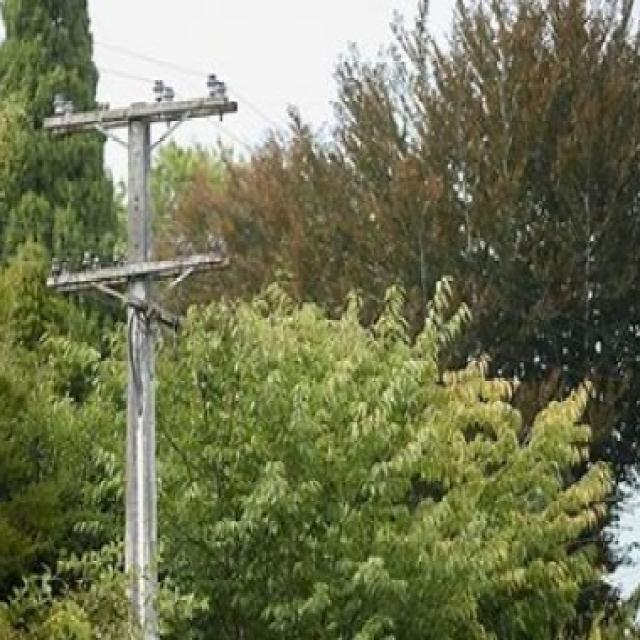utility poles: (38, 54, 243, 633)
